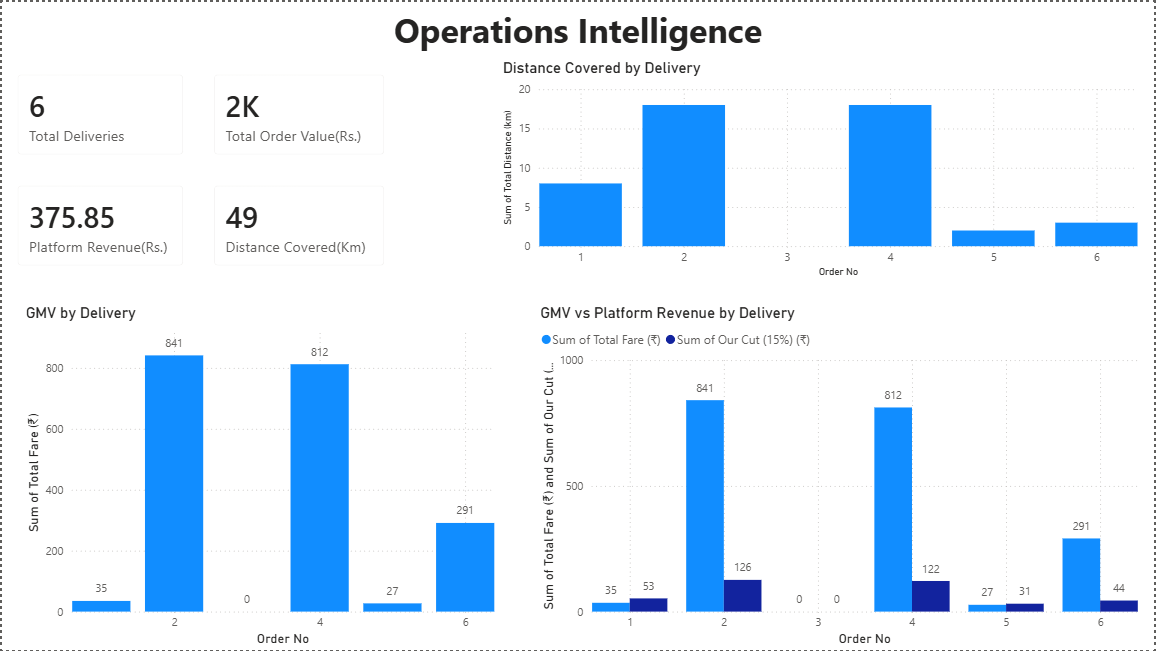

The page's visual inventory and layout, read from the dashboard file:
{"tool":"powerbi","page":{"name":"Operations Intelligence","canvas":[1280,720],"ordinal":3},"visuals":[{"type":"textbox","box":[0,0,1280,63.3],"z":0},{"type":"cardVisual","fields":{"Data":["CountNonNull(Deliveries.Order No)"]},"box":[0,63.3,218.3,123.3],"z":1},{"type":"cardVisual","fields":{"Data":["Sum(Deliveries.Our Cut (15%) (₹))"]},"box":[0,186.7,218.3,123.3],"z":2},{"type":"cardVisual","fields":{"Data":["Sum(Deliveries.Total Distance (km))"]},"box":[218.3,186.7,223.3,123.3],"z":3},{"type":"cardVisual","fields":{"Data":["Sum(Deliveries.Total Fare (₹))"]},"box":[218.3,63.3,223.3,123.3],"z":4},{"type":"clusteredColumnChart","title":"GMV by Delivery","fields":{"Category":["Deliveries.Order No"],"Y":["Sum(Deliveries.Total Fare (₹))"]},"box":[21.7,335,530,385],"z":5},{"type":"clusteredColumnChart","title":"GMV vs Platform Revenue by Delivery","fields":{"Category":["Deliveries.Order No"],"Y":["Sum(Deliveries.Total Fare (₹))","Sum(Deliveries.Our Cut (15%) (₹))"]},"box":[593.3,335,673.3,385],"z":6},{"type":"clusteredColumnChart","title":"Distance Covered by Delivery","fields":{"Category":["Deliveries.Order No"],"Y":["Sum(Deliveries.Total Distance (km))"]},"box":[551.7,63.3,715,246.7],"z":7}]}

Visuals, with their boxes in screenshot pixels (x1, y1, x2, y2), scaled from the page's 1280x720 canvas onto the 1156x651 screenshot:
textbox: bbox=[0, 0, 1155, 57]
cardVisual - CountNonNull(Deliveries.Order No): bbox=[0, 57, 197, 169]
cardVisual - Sum(Deliveries.Our Cut (15%) (₹)): bbox=[0, 169, 197, 280]
cardVisual - Sum(Deliveries.Total Distance (km)): bbox=[197, 169, 399, 280]
cardVisual - Sum(Deliveries.Total Fare (₹)): bbox=[197, 57, 399, 169]
"GMV by Delivery" clusteredColumnChart: bbox=[20, 303, 498, 650]
"GMV vs Platform Revenue by Delivery" clusteredColumnChart: bbox=[536, 303, 1144, 650]
"Distance Covered by Delivery" clusteredColumnChart: bbox=[498, 57, 1144, 280]
